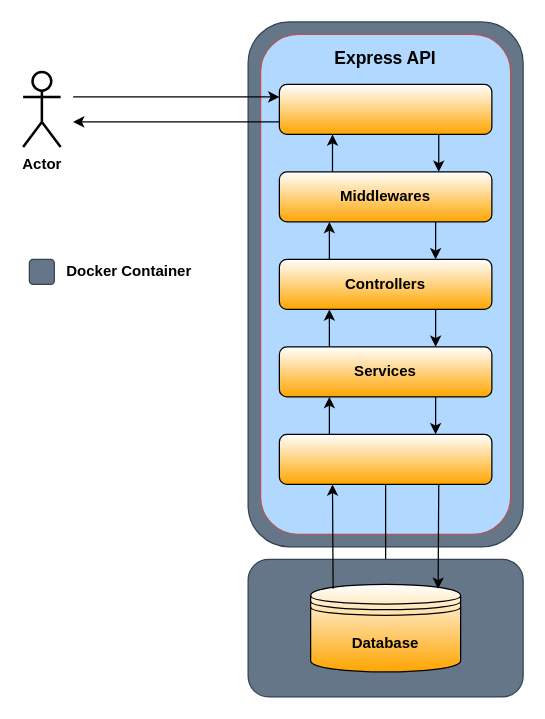
This 545x719 diagram has some shape labels left out. The shapes that lost their labels are listed below. From the top down, each one's box as (x1, y1, x2, y2) in pixels, then its label:
(278, 83, 492, 134): Router
(278, 433, 492, 484): DAO
